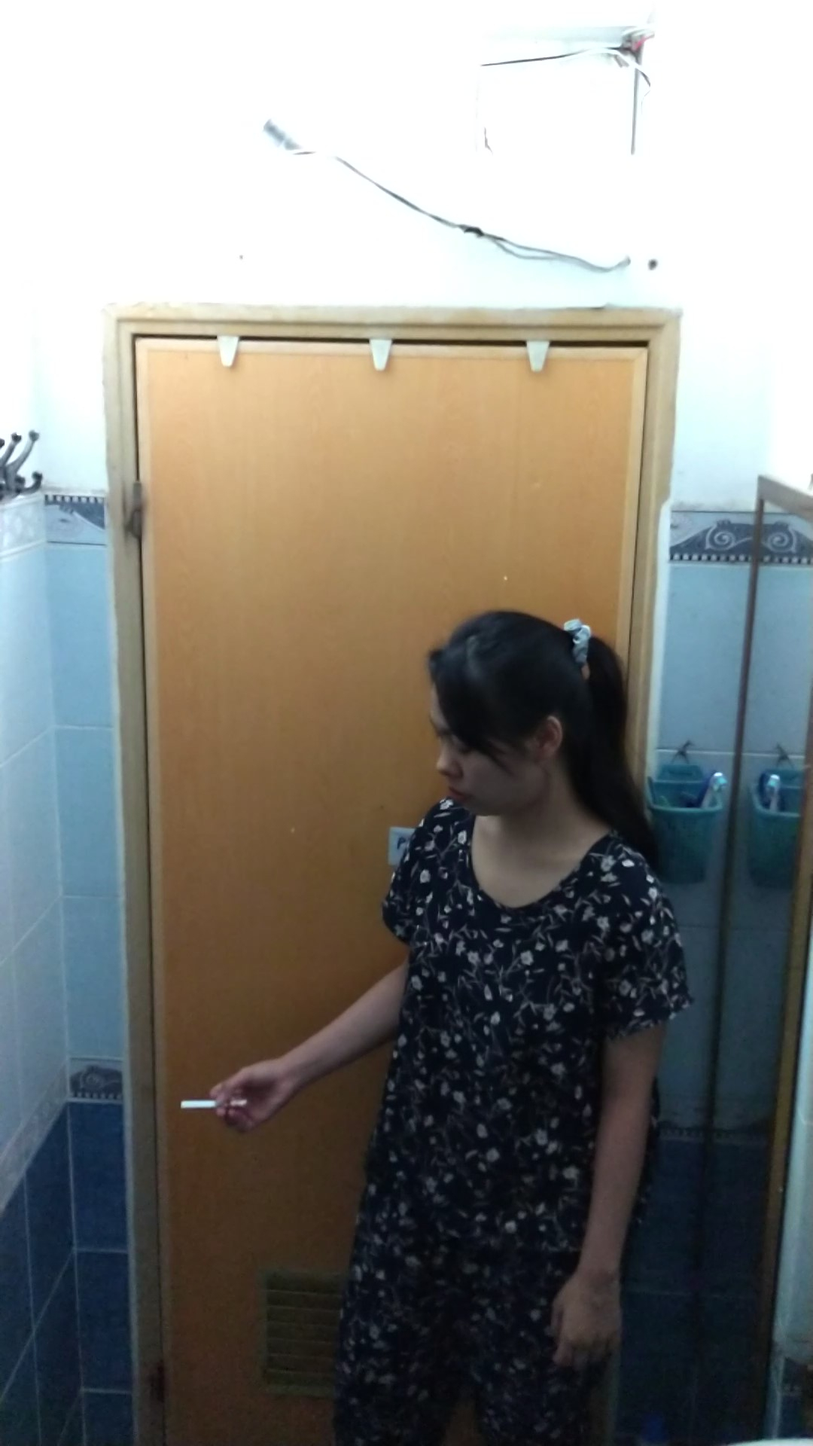cigarette: (176, 1094, 218, 1118)
person: (204, 583, 723, 1442)
